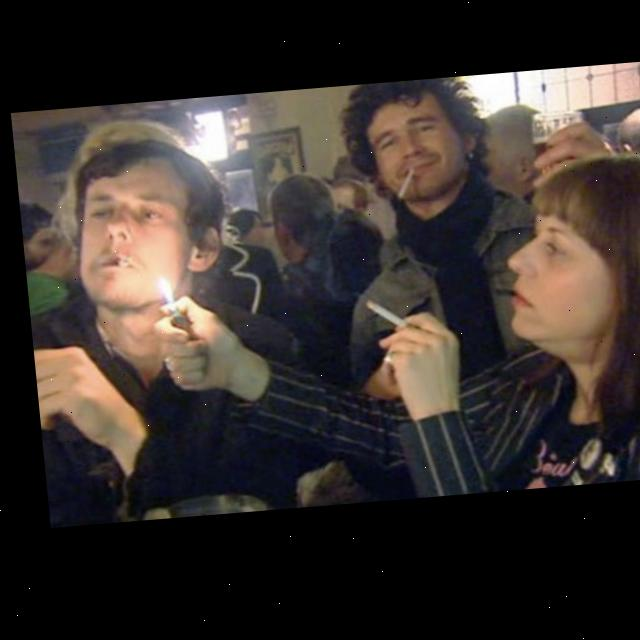cigarette: (358, 303, 402, 338), (391, 176, 413, 205), (112, 257, 127, 270)
